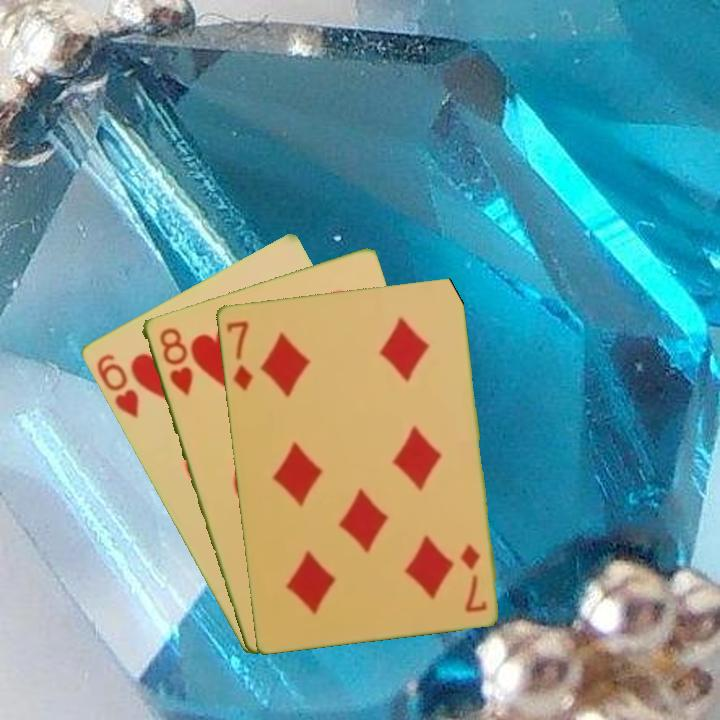6h: (92, 350, 142, 422)
7d: (223, 317, 256, 393), (456, 540, 489, 615)
8h: (155, 324, 196, 398)
